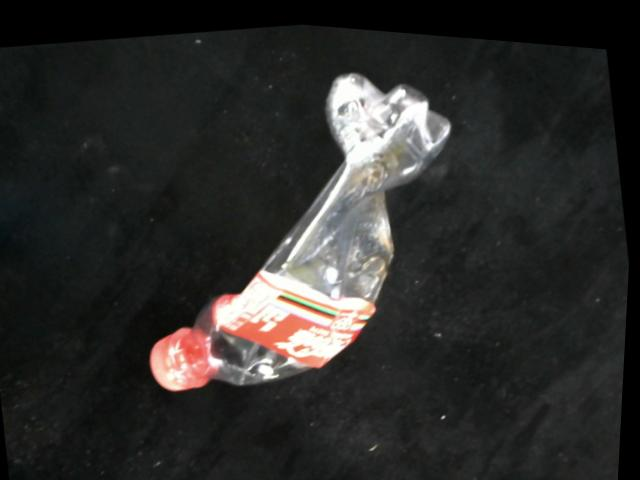bottle: (144, 64, 460, 394)
